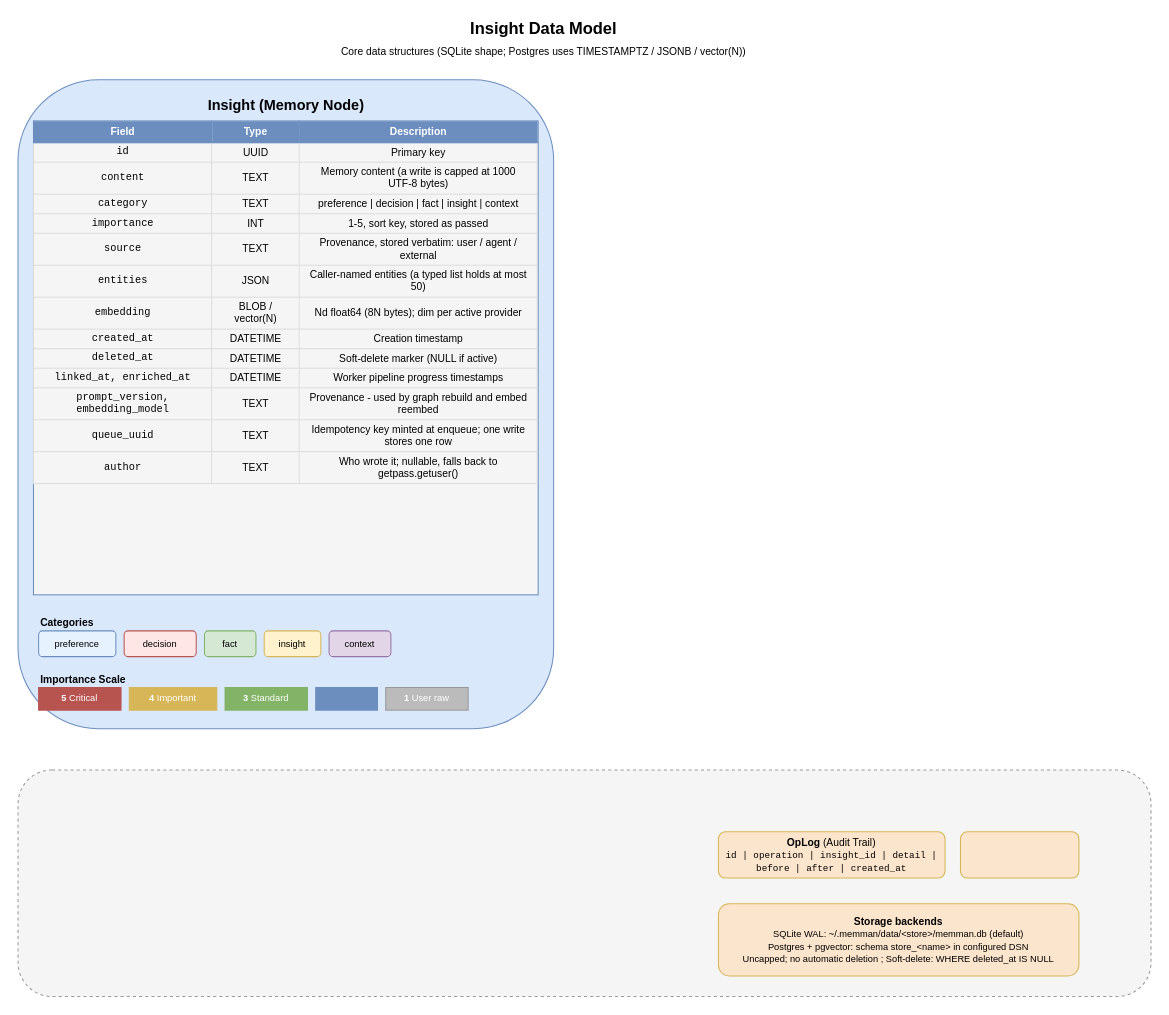
This 1169x1015 diagram has some shape labels left out. Each missing label, with the box of its shape:
2 Low: (315, 686, 377, 710)
Meta (Config) key | value embed_fingerprint, embed_swap_*, constants_hash: (959, 831, 1079, 878)
